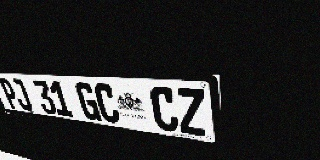1: (47, 81, 73, 117)
3: (32, 80, 58, 115)
C: (149, 86, 180, 133), (93, 83, 121, 124)
G: (74, 82, 102, 121)
J: (9, 78, 34, 111)
P: (0, 78, 21, 110)
Z: (175, 88, 207, 137)
